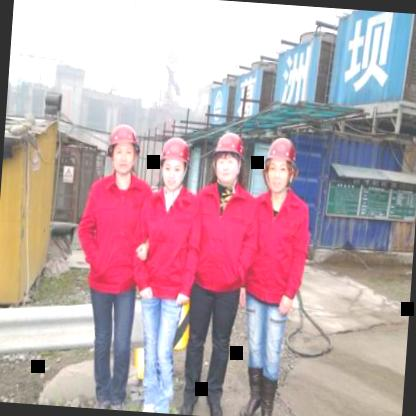helmet: (258, 130, 302, 199), (103, 116, 144, 180), (208, 127, 249, 190), (156, 132, 194, 192)
